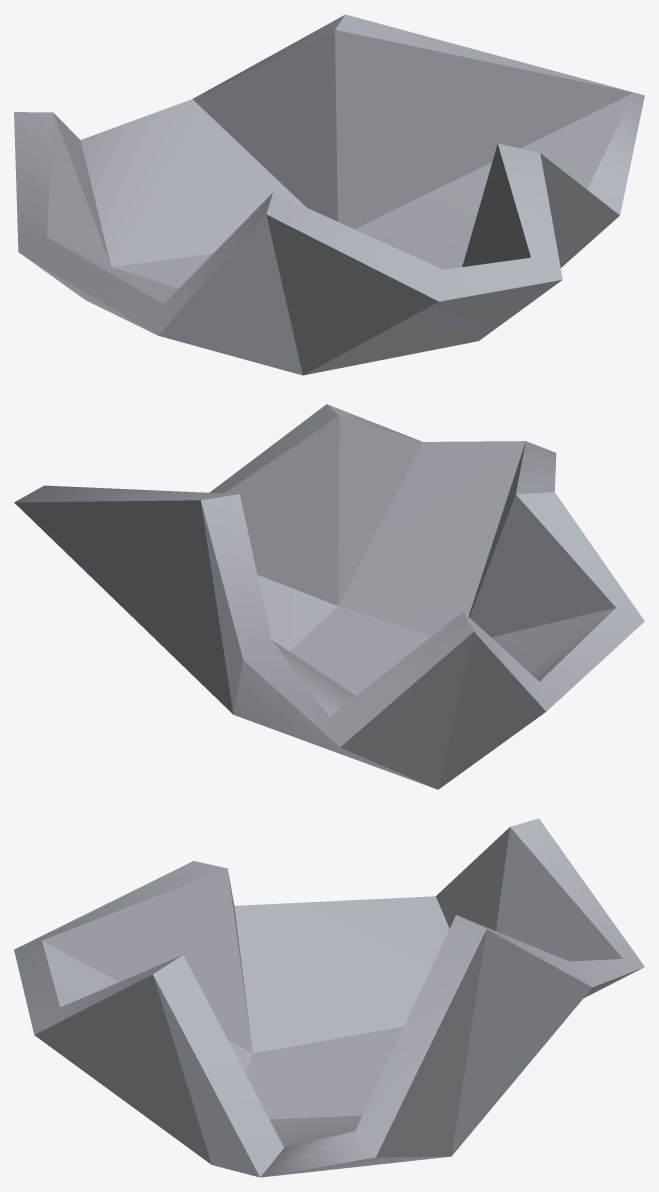
File: SM_Prop_Paper_05.fbx
3 views of the same model, one above another, from view 1: azimuth 30°, elevation 25°; view 2: azimuth 150°, elevation 25°; view 3: azimuth 270°, elevation 25° (orthographic). The views are drawn at different scales.
Parts seen in each view (by area): view 1: SM_Prop_Paper_05; view 2: SM_Prop_Paper_05; view 3: SM_Prop_Paper_05.
Part boxes in pixels (bbox=[...]): SM_Prop_Paper_05: bbox=[14, 14, 644, 375]; SM_Prop_Paper_05: bbox=[14, 404, 644, 789]; SM_Prop_Paper_05: bbox=[14, 818, 644, 1177].
Bounding box in the file's own units: 34.79 × 13.13 × 31.47.
